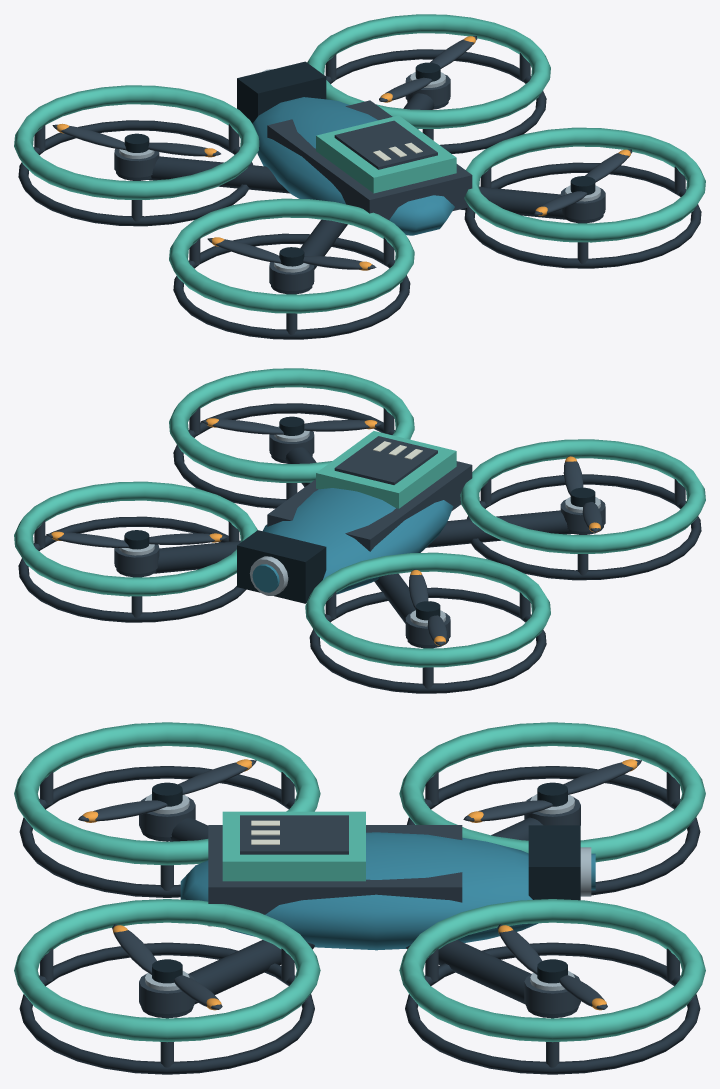
File: class-fpv.glb
3 views of the same model, one above another, from view 1: azimuth 30°, elevation 25°; view 2: azimuth 150°, elevation 25°; view 3: azimuth 270°, elevation 25° (orthographic). The views are drawn at different scales.
Visible parts, largest first — view 1: part-frame-1, part-battery-10, part-payload-11, part-propeller-3, part-propeller-7, part-propeller-5, part-propeller-9, part-motor-6, part-motor-2, part-motor-8, part-motor-4; view 2: part-frame-1, part-battery-10, part-payload-11, part-propeller-5, part-propeller-9, part-propeller-7, part-propeller-3, part-motor-4, part-motor-8, part-motor-2, part-motor-6; view 3: part-frame-1, part-battery-10, part-payload-11, part-propeller-7, part-propeller-3, part-propeller-5, part-propeller-9, part-motor-4, part-motor-8, part-motor-6, part-motor-2.
Boxes of the visible parts, bbox=[...] form: part-frame-1: bbox=[14, 14, 705, 339]; part-battery-10: bbox=[316, 115, 456, 193]; part-payload-11: bbox=[237, 61, 326, 123]; part-propeller-3: bbox=[52, 123, 220, 157]; part-propeller-7: bbox=[207, 237, 376, 270]; part-propeller-5: bbox=[379, 36, 477, 102]; part-propeller-9: bbox=[534, 149, 632, 215]; part-motor-6: bbox=[269, 262, 314, 290]; part-motor-2: bbox=[114, 148, 159, 177]; part-motor-8: bbox=[560, 185, 605, 219]; part-motor-4: bbox=[405, 72, 450, 105]; part-frame-1: bbox=[14, 368, 705, 693]; part-battery-10: bbox=[316, 431, 456, 508]; part-payload-11: bbox=[237, 530, 326, 603]; part-propeller-5: bbox=[46, 530, 227, 549]; part-propeller-9: bbox=[201, 416, 382, 435]; part-propeller-7: bbox=[563, 455, 602, 532]; part-propeller-3: bbox=[409, 569, 447, 645]; part-motor-4: bbox=[114, 539, 159, 573]; part-motor-8: bbox=[269, 426, 314, 459]; part-motor-2: bbox=[405, 610, 450, 644]; part-motor-6: bbox=[560, 497, 605, 531]; part-frame-1: bbox=[14, 722, 705, 1074]; part-battery-10: bbox=[222, 811, 365, 881]; part-payload-11: bbox=[528, 825, 595, 900]; part-propeller-7: bbox=[78, 759, 256, 822]; part-propeller-3: bbox=[463, 759, 641, 822]; part-propeller-5: bbox=[497, 924, 607, 1010]; part-propeller-9: bbox=[112, 924, 222, 1010]; part-motor-4: bbox=[524, 970, 580, 1013]; part-motor-8: bbox=[139, 971, 195, 1013]; part-motor-6: bbox=[139, 794, 195, 837]; part-motor-2: bbox=[524, 794, 580, 825].
Size of the model in its own units: 3.54 by 0.5485 by 3.38.
